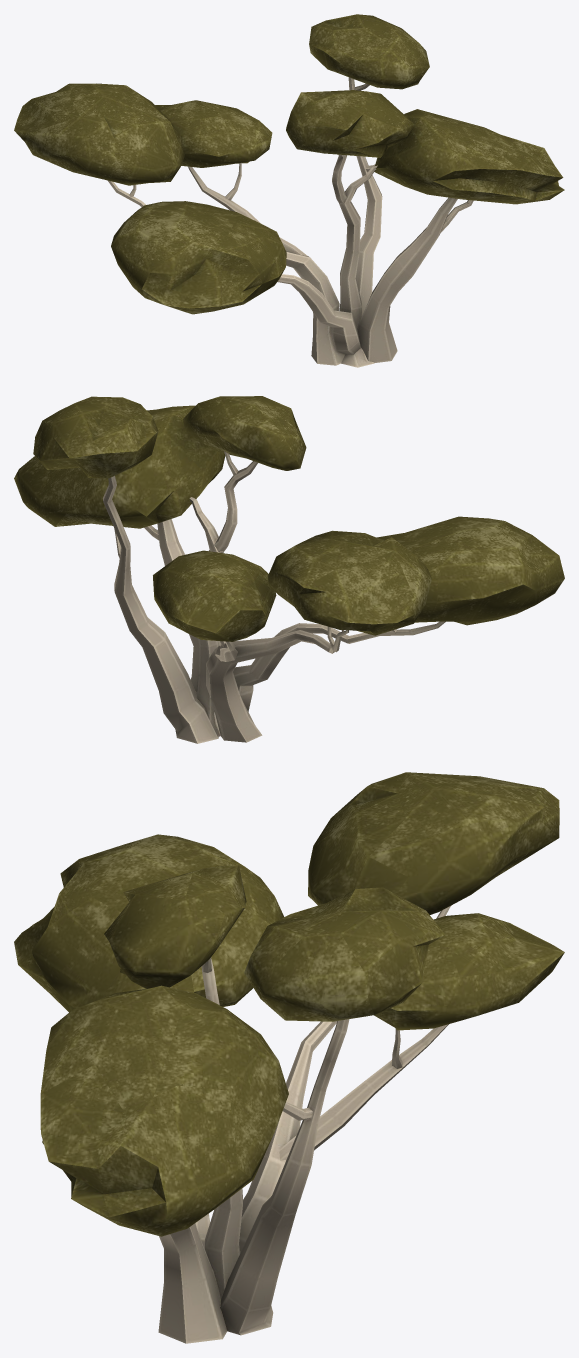
Rendered from Tree-Elephant-Low-Poly-GB.fbx.
The picture shows the model from 3 angles, top to bottom: view 1: azimuth 30°, elevation 25°; view 2: azimuth 150°, elevation 25°; view 3: azimuth 270°, elevation 25°; orthographic projection. The views are drawn at different scales.
Visible parts, largest first — view 1: ElephantTree_mesh; view 2: ElephantTree_mesh; view 3: ElephantTree_mesh.
Boxes of the visible parts, box(x1,y1,x2,y2) form: ElephantTree_mesh: box(14, 14, 564, 367); ElephantTree_mesh: box(14, 396, 564, 743); ElephantTree_mesh: box(14, 772, 564, 1343).
Bounding box in the file's own units: 735 × 462 × 513.
Materials: 1 (1 with a texture image).
